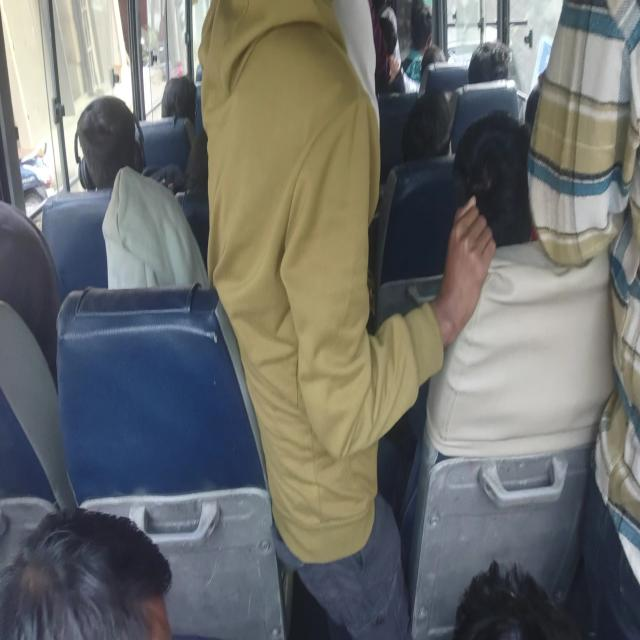person: (192, 0, 388, 479), (548, 0, 640, 516), (3, 512, 190, 640), (311, 0, 385, 143), (468, 105, 538, 254), (98, 207, 202, 300), (450, 556, 549, 639), (0, 230, 57, 320), (79, 102, 136, 180), (411, 97, 457, 162), (159, 74, 198, 123), (518, 84, 551, 140), (471, 41, 512, 83), (410, 8, 439, 51), (420, 45, 450, 80), (378, 26, 404, 54)
